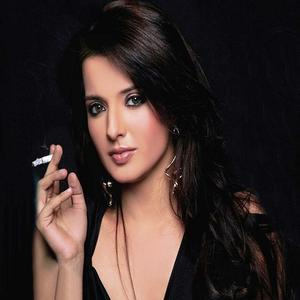cigarette: (31, 153, 53, 169)
